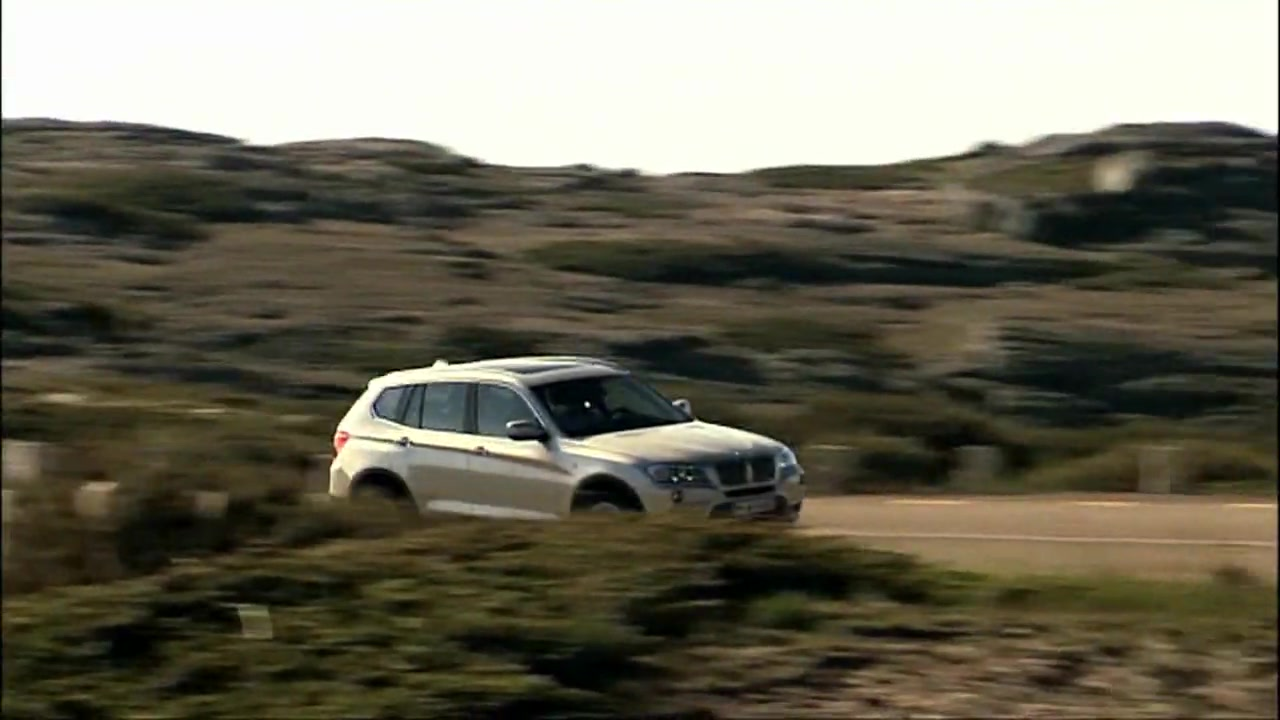car: (324, 358, 812, 539)
